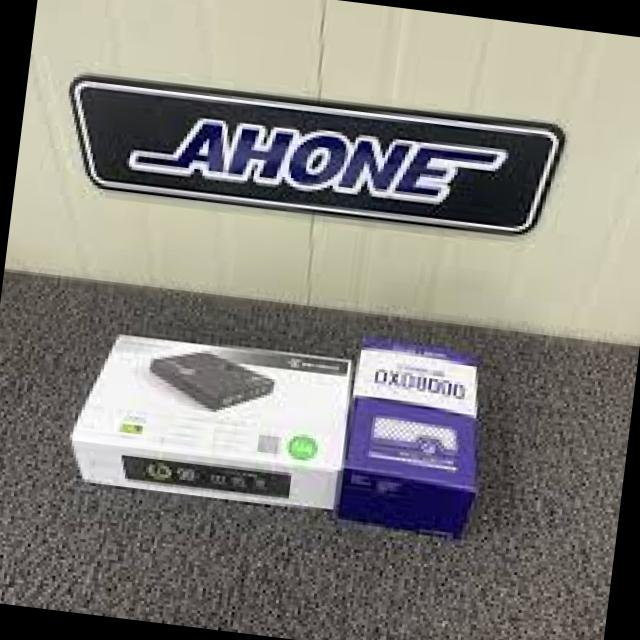portable-charger: (150, 341, 283, 422)
